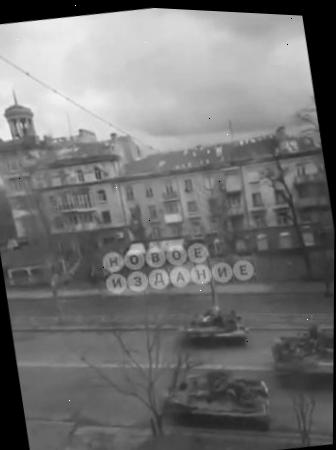tank: (144, 350, 274, 450), (170, 294, 258, 358), (267, 321, 334, 397)
